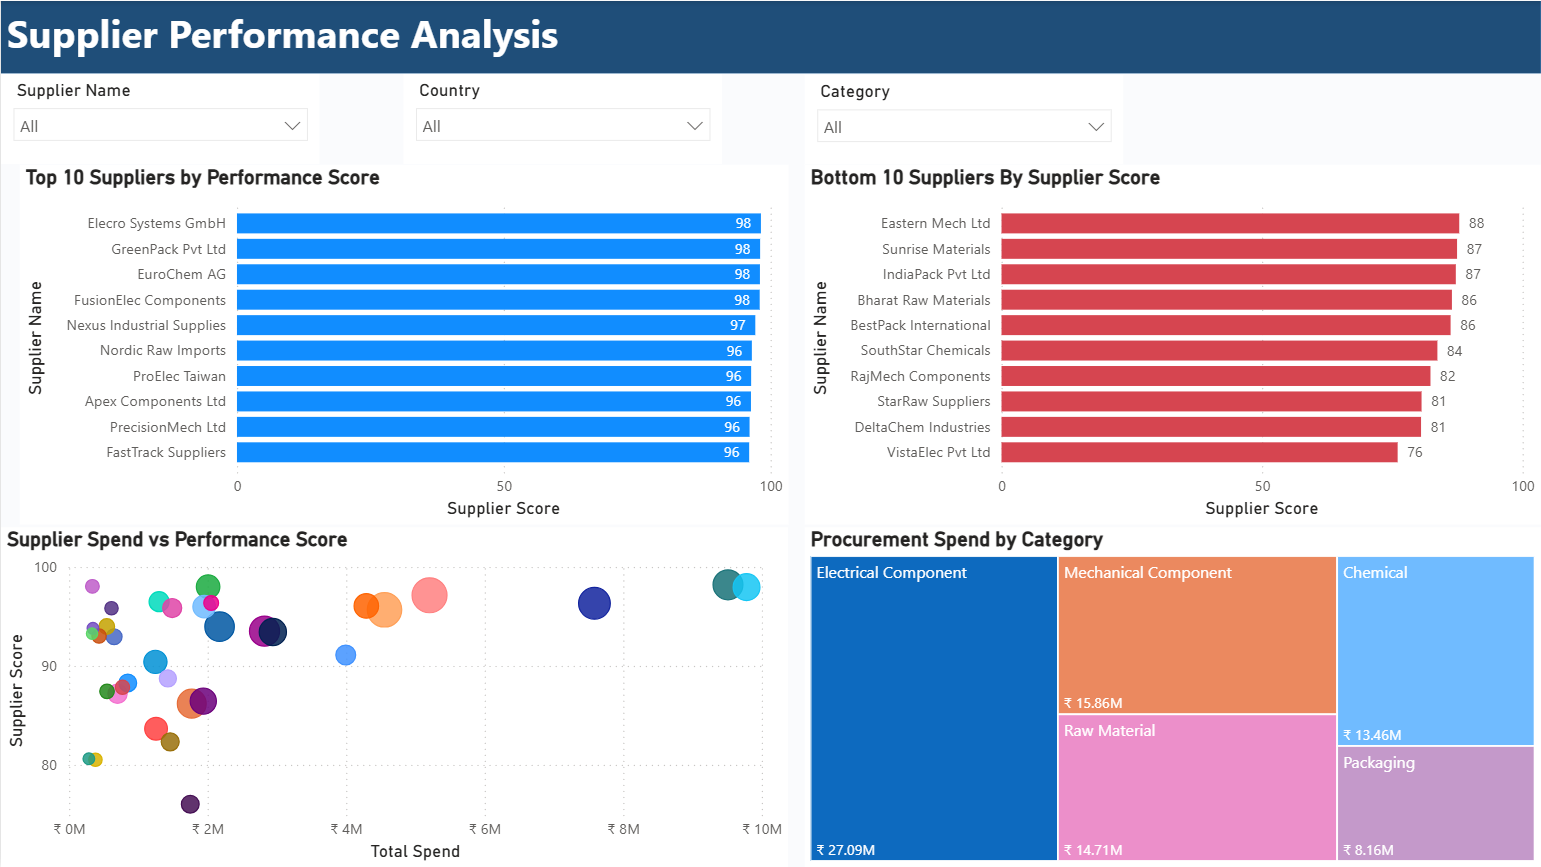

The dashboard page shown, as its layout file describes it:
{"tool":"powerbi","page":{"name":"Supplier Performance Analysis","canvas":[1280,720],"ordinal":1},"visuals":[{"type":"slicer","fields":{"Values":["Dim_Supplier.Supplier_Name"]},"box":[0,60.4,264.8,75.5],"z":1000},{"type":"slicer","fields":{"Values":["Dim_Supplier.Country"]},"box":[334.1,60.4,264.8,75.5],"z":2000},{"type":"slicer","fields":{"Values":["Product_Master.Category"]},"box":[668.3,61.7,264.8,74.1],"z":3000},{"type":"clusteredBarChart","title":"Top 10 Suppliers by Performance Score","fields":{"Category":["Dim_Supplier.Supplier_Name"],"Y":["Supplier Measure.Supplier Score"]},"box":[15.1,135.8,639.5,299.1],"z":4000},{"type":"scatterChart","title":"Supplier Spend vs Performance Score","fields":{"X":["Supplier Measure.Total Spend"],"Y":["Supplier Measure.Supplier Score"],"Size":["Supplier Measure.Total_Orders"],"Category":["Dim_Supplier.Supplier_Name"]},"box":[0,437.7,625.7,282.7],"z":5000},{"type":"clusteredBarChart","title":"Bottom 10 Suppliers By Supplier Score","fields":{"Category":["Dim_Supplier.Supplier_Name"],"Y":["Supplier Measure.Supplier Score"]},"box":[668.3,135.8,612,299.1],"z":6000},{"type":"treemap","title":"Procurement Spend by Category","fields":{"Group":["Dim_Supplier.Supplier_Category"],"Values":["Supplier Measure.Total Spend"]},"box":[668.3,437.7,612,282.7],"z":7000},{"type":"shape","box":[0,0,1280,60],"z":8000},{"type":"textbox","box":[0,0,1280.2,60],"z":8500}]}

Visuals, with their boxes in screenshot pixels (x1, y1, x2, y2), scaled from the page's 1280x720 canvas onto the 1541x867 screenshot:
slicer - Dim_Supplier.Supplier_Name: [left=0, top=73, right=319, bottom=164]
slicer - Dim_Supplier.Country: [left=402, top=73, right=721, bottom=164]
slicer - Product_Master.Category: [left=805, top=74, right=1123, bottom=164]
"Top 10 Suppliers by Performance Score" clusteredBarChart: [left=18, top=164, right=788, bottom=524]
"Supplier Spend vs Performance Score" scatterChart: [left=0, top=527, right=753, bottom=866]
"Bottom 10 Suppliers By Supplier Score" clusteredBarChart: [left=805, top=164, right=1540, bottom=524]
"Procurement Spend by Category" treemap: [left=805, top=527, right=1540, bottom=866]
shape: [left=0, top=0, right=1540, bottom=72]
textbox: [left=0, top=0, right=1540, bottom=72]
